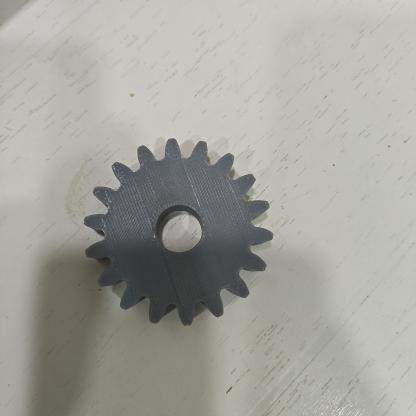gear: (71, 131, 287, 335)
